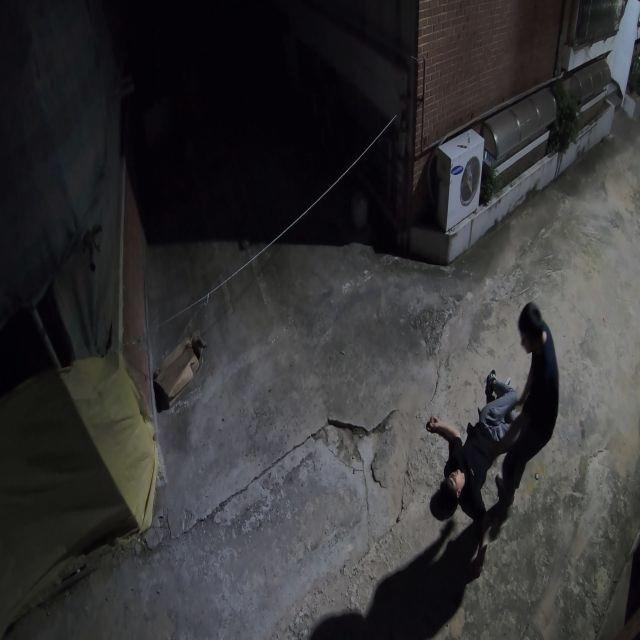fight: (418, 295, 569, 582)
